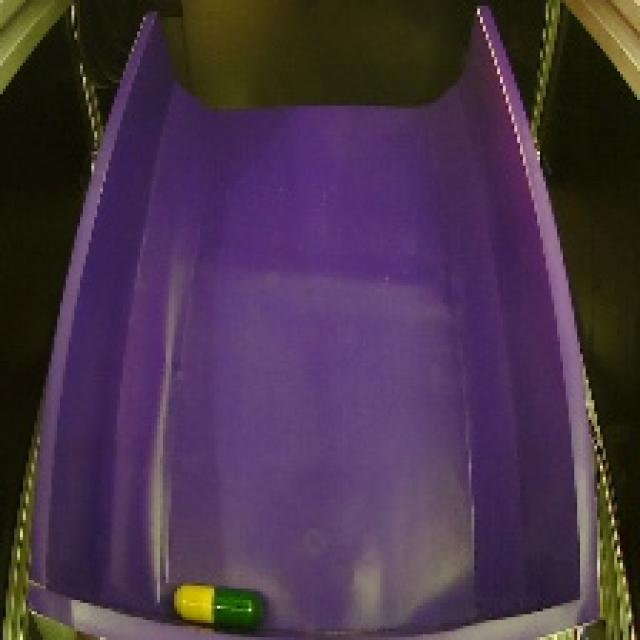small: (160, 574, 270, 634)
